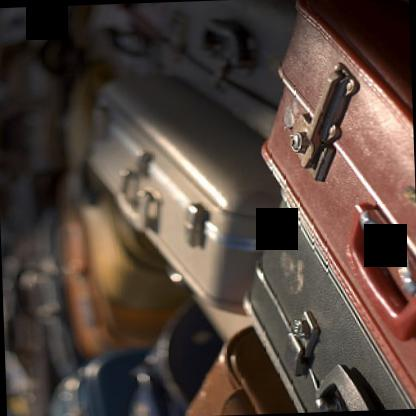suitcase: (259, 0, 416, 396), (64, 78, 253, 338), (88, 73, 284, 315), (237, 189, 416, 413), (45, 171, 171, 361), (157, 0, 298, 139), (183, 325, 298, 416), (130, 334, 224, 416), (56, 349, 155, 416)
